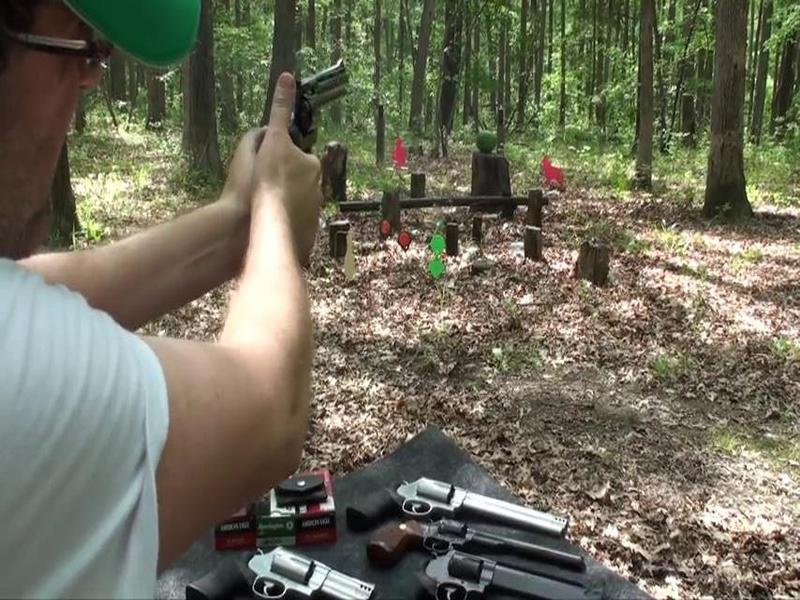Revolver: (254, 47, 363, 150)
